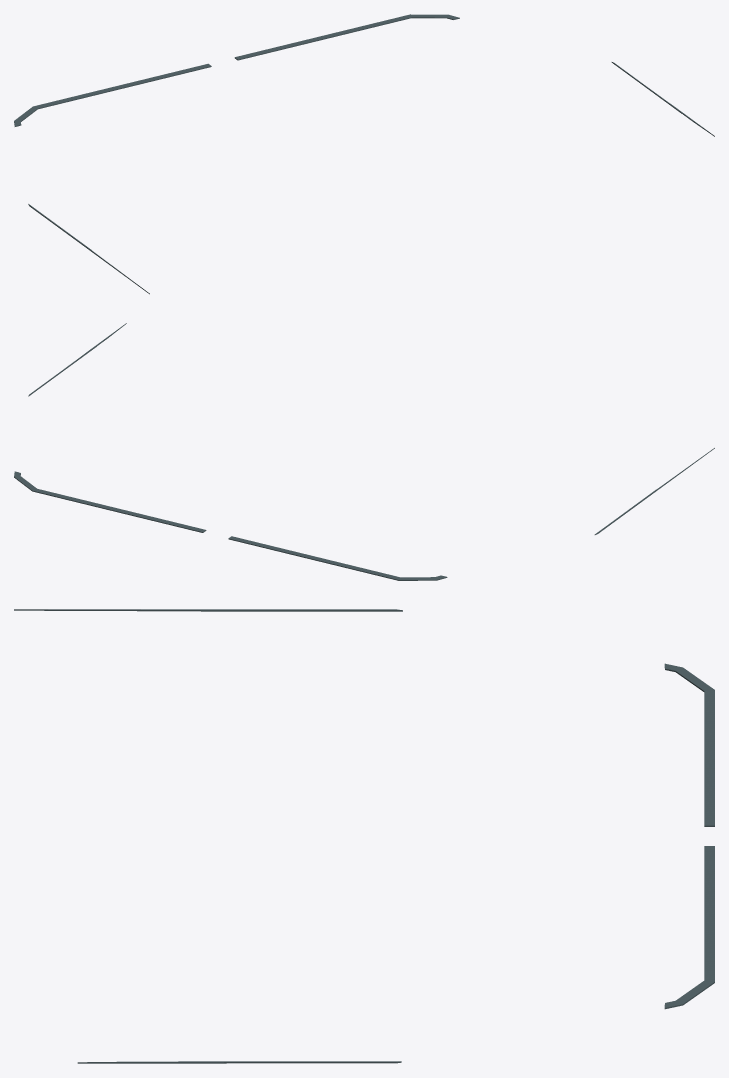
File: G7_Completion_R003_Roof_00.glb
The picture shows the model from 3 angles, top to bottom: view 1: azimuth 30°, elevation 25°; view 2: azimuth 150°, elevation 25°; view 3: azimuth 270°, elevation 25°; orthographic projection. The views are drawn at different scales.
Visible parts, largest first — view 1: Roof_00_G7C3_roof_solid_roof; view 2: Roof_00_G7C3_roof_solid_roof; view 3: Roof_00_G7C3_roof_solid_roof.
Part boxes in pixels (<box>): Roof_00_G7C3_roof_solid_roof: <box>14,14,714,294</box>; Roof_00_G7C3_roof_solid_roof: <box>14,323,714,580</box>; Roof_00_G7C3_roof_solid_roof: <box>14,609,714,1063</box>.
Bounding box in the file's own units: 202 × 0.28 × 132.
Materials: 1 (1 with a texture image).
